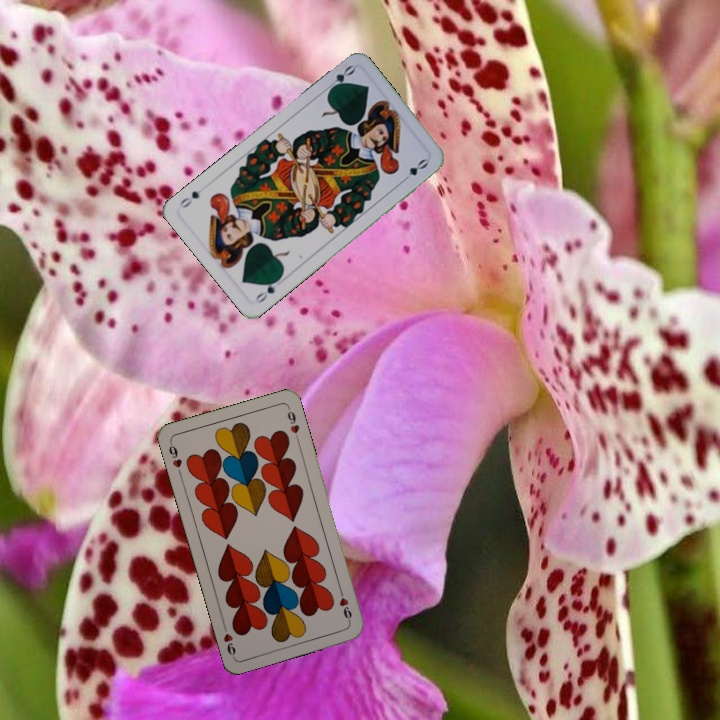GO: (322, 61, 357, 95), (251, 273, 285, 306)
H9: (165, 438, 185, 478), (335, 585, 354, 625)
